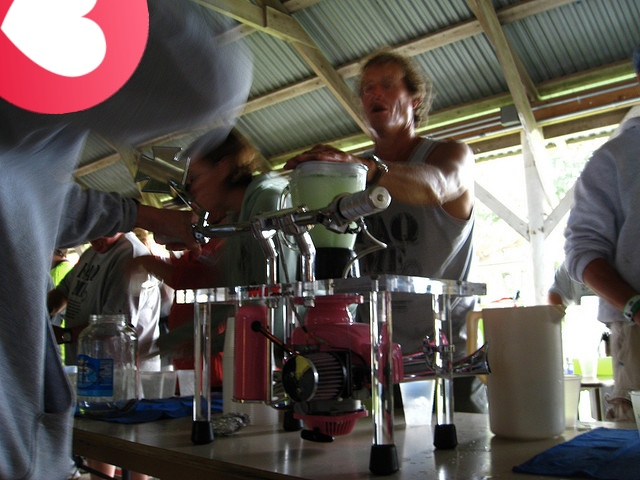love: (0, 0, 149, 114)
